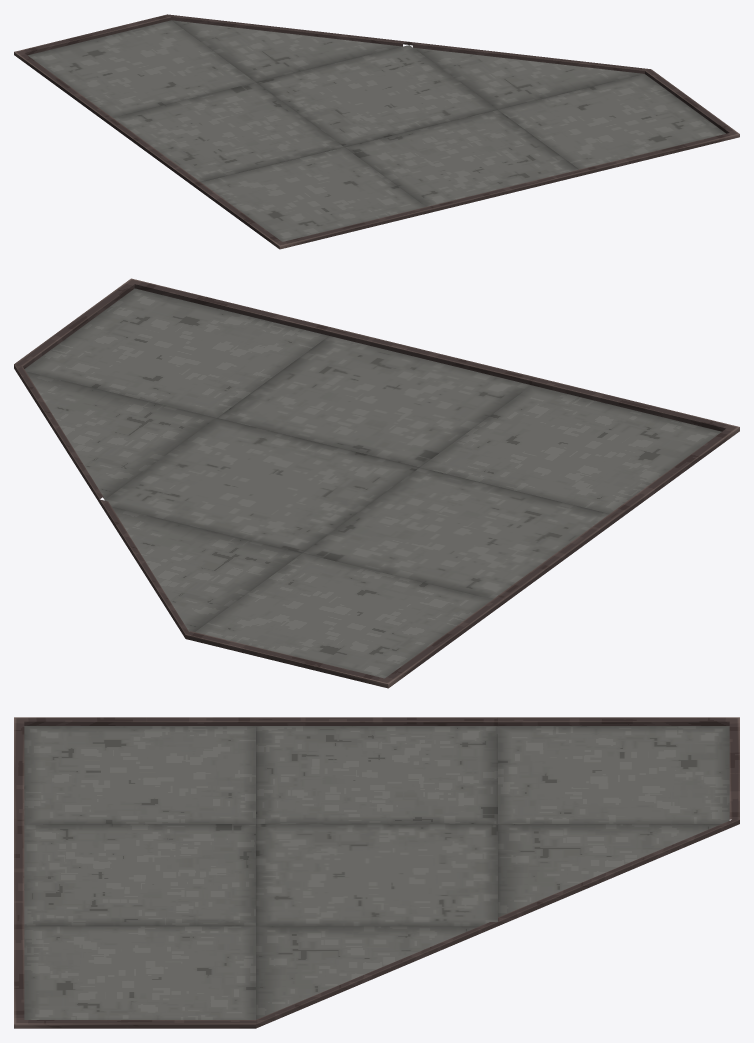
File: BigBeveledCornerRoof.fbx
3 renders of one model, top to bottom at view 1: azimuth 30°, elevation 25°; view 2: azimuth 150°, elevation 25°; view 3: azimuth 270°, elevation 25°, orthographic. The views are drawn at different scales.
Visible parts, largest first — view 1: BigBeveledCornerRoof; view 2: BigBeveledCornerRoof; view 3: BigBeveledCornerRoof.
Part boxes in pixels (x1,y1,x2,y2): BigBeveledCornerRoof: [14, 14, 739, 249]; BigBeveledCornerRoof: [14, 278, 739, 688]; BigBeveledCornerRoof: [14, 717, 739, 1028].
Bounding box in the file's own units: 300 × 2 × 300.
